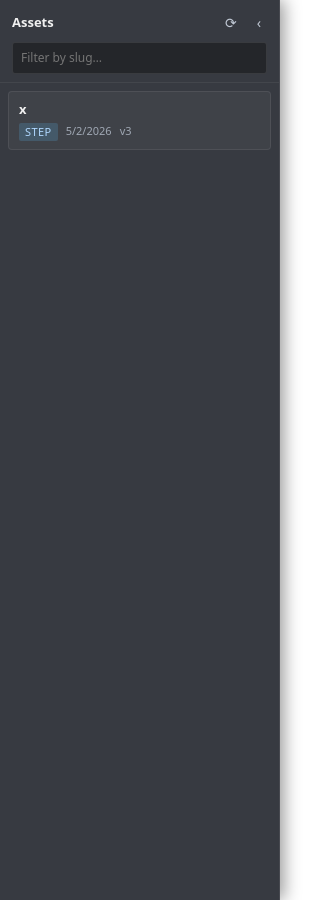
Scenario: AssetBrowser › shows failed toast when channel.openAsset rejects
Click the button with test id "asset-browser-card": (38,132) 8,91 -> 271,150
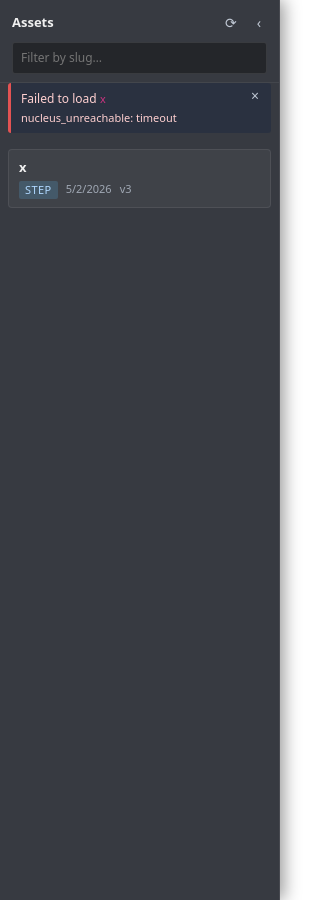
Expected: the element with test id "asset-browser-toast-failed" is shown, 8,83 -> 271,133
Expected: the element with test id "asset-browser-toast-failed" shows "nucleus_unreachable", 21,110 -> 177,125
